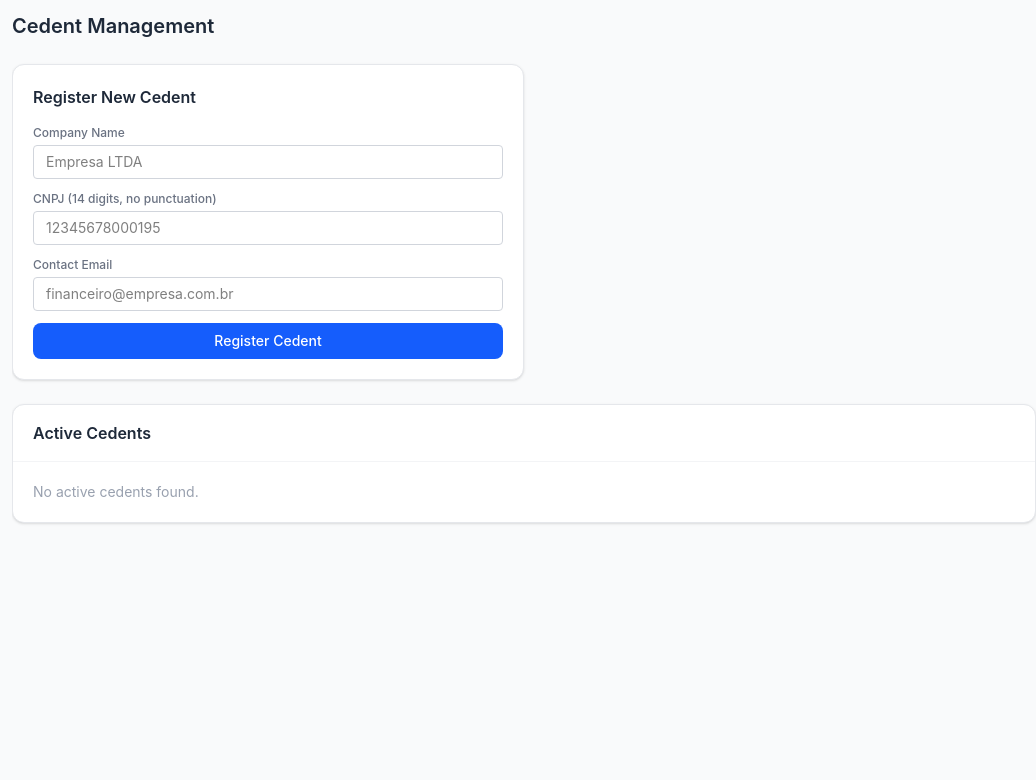
it: Cedents page › shows validation error for invalid CNPJ
The image size is (1036, 780).
Type "Test Empresa" into the field with placeholder "Empresa LTDA" at (268, 162), box [33,145,503,179]
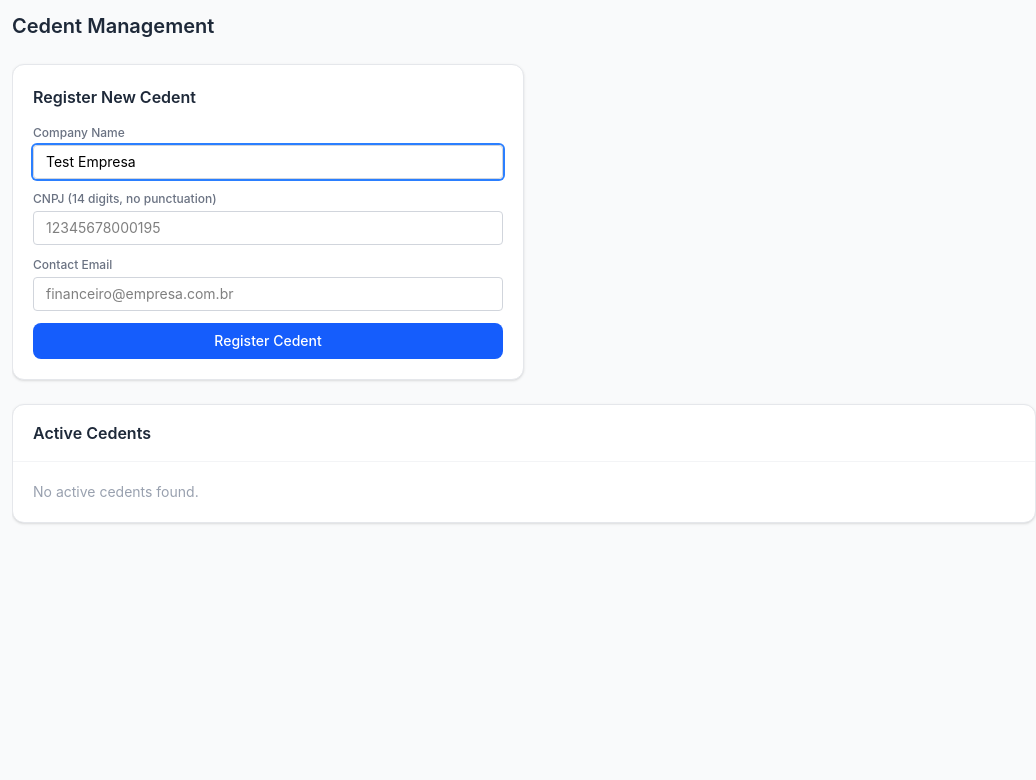
Type "123" into the field with placeholder "12345678000195" at (268, 228), box [33,211,503,245]
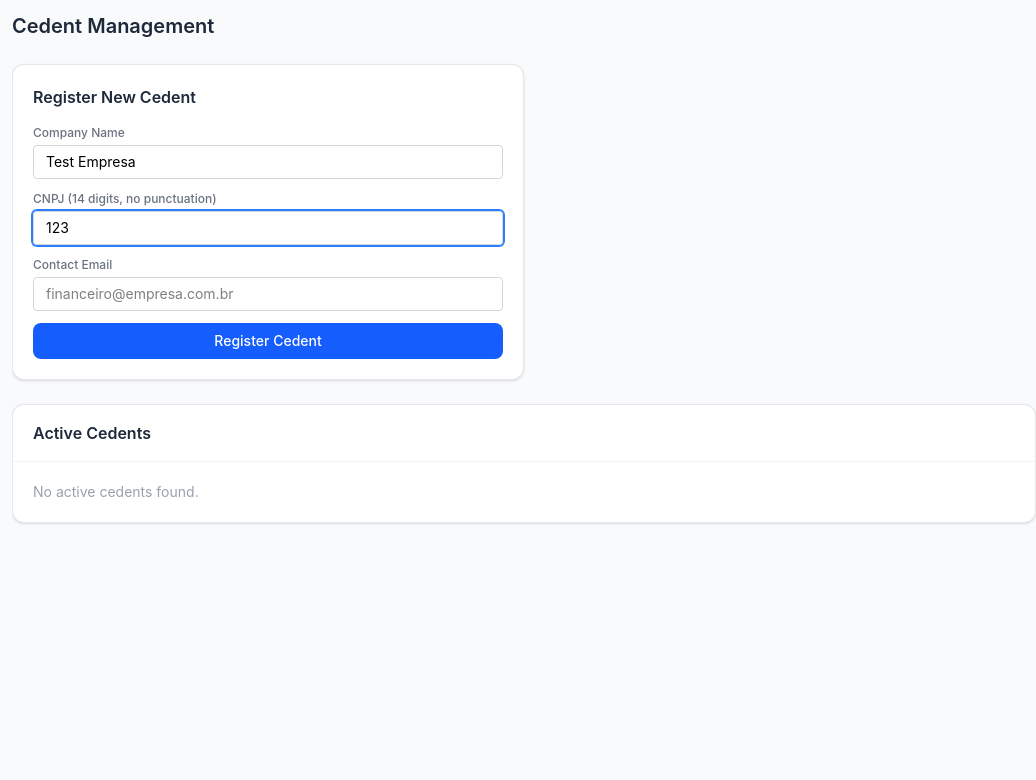
Type "email@test.com" into the field with placeholder "financeiro@empresa.com.br" at (268, 294), box [33,277,503,311]
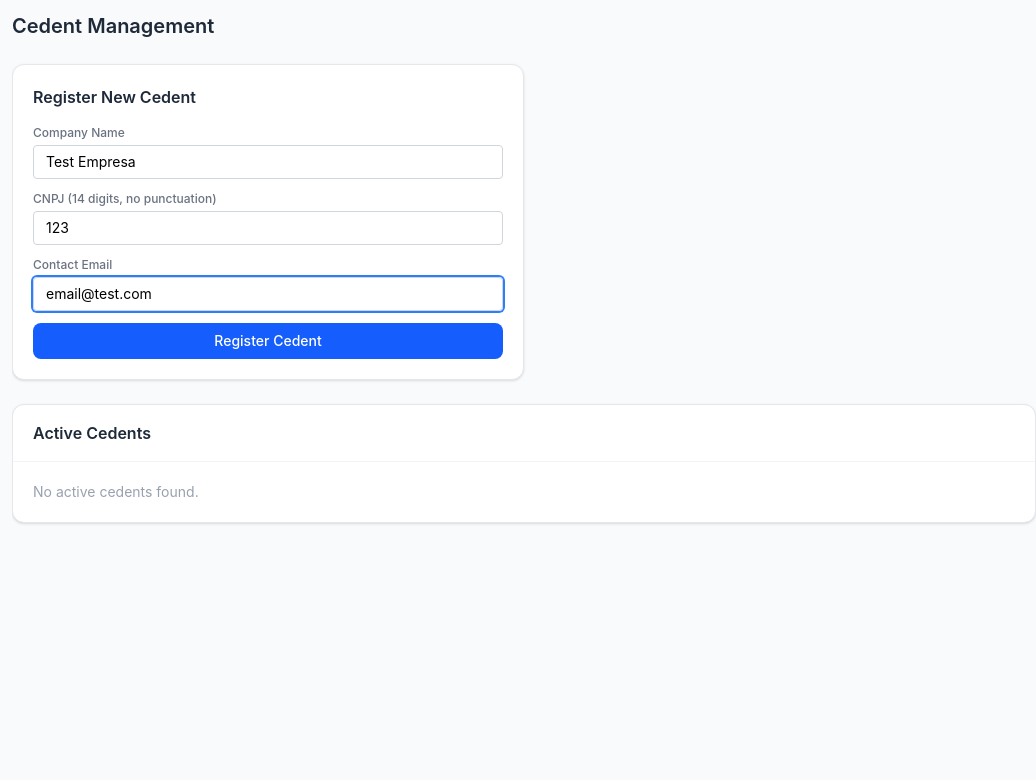
Click the button "Register Cedent" at (268, 341), box [33,323,503,359]
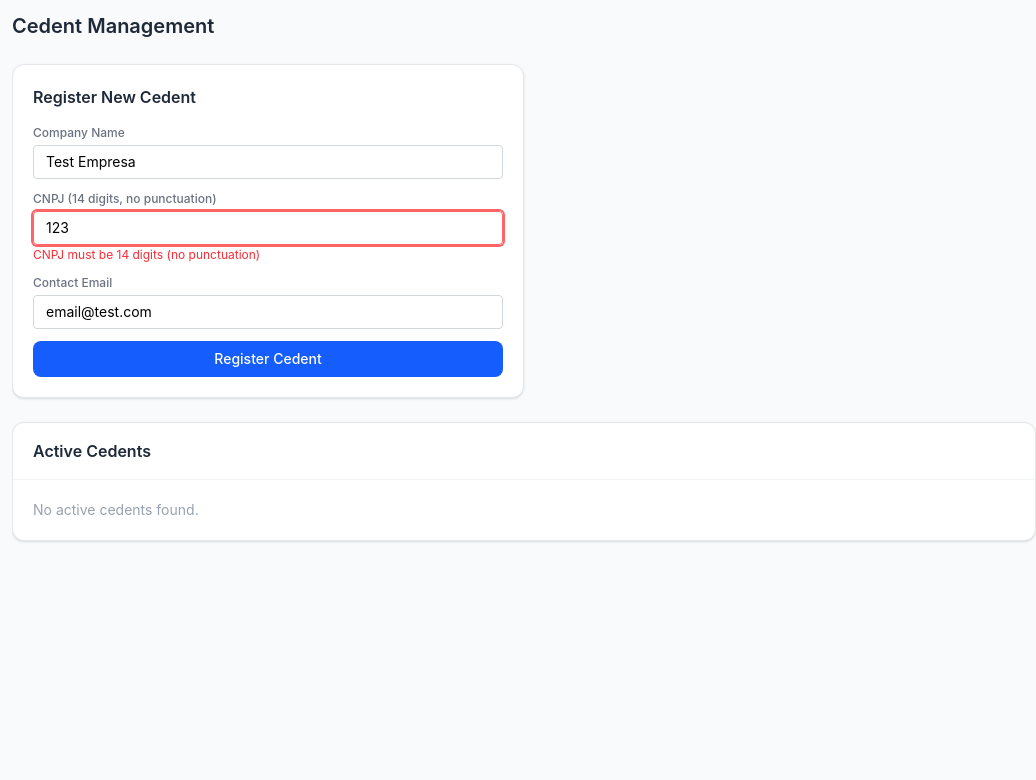
Check: the text "CNPJ must be 14 digits (no punctuation)" is shown, box [33,247,260,262]
